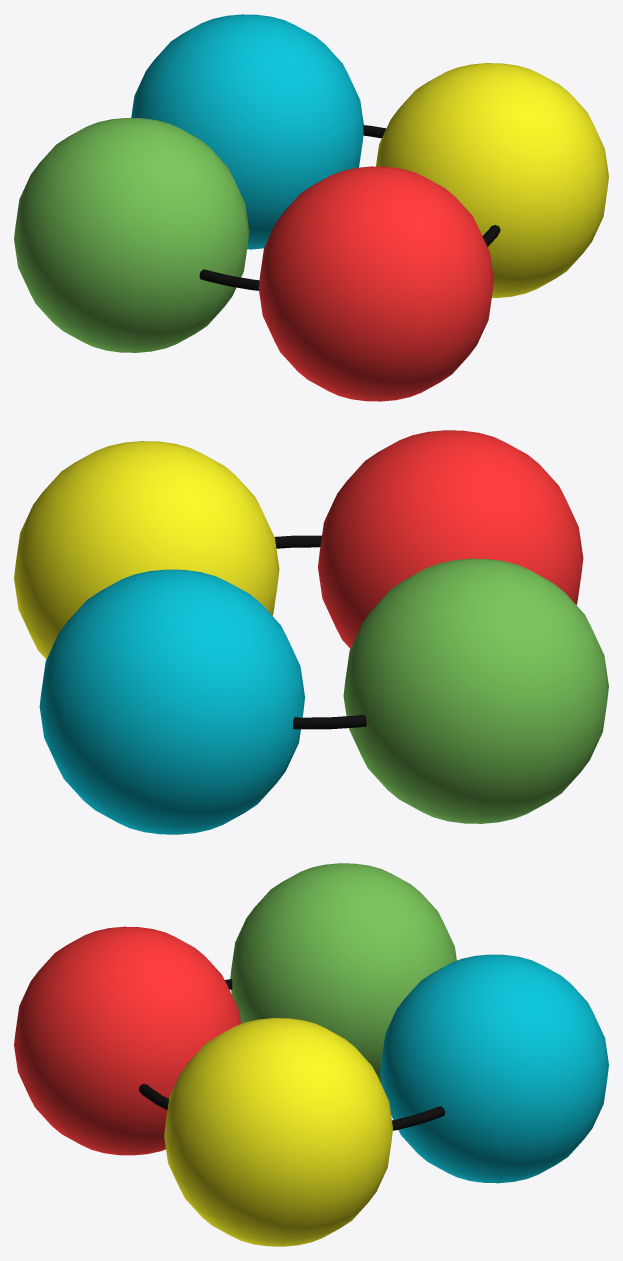
Rendered from éléments.fbx.
The picture shows the model from 3 angles, top to bottom: view 1: azimuth 30°, elevation 25°; view 2: azimuth 150°, elevation 25°; view 3: azimuth 270°, elevation 25°; orthographic projection. The views are drawn at different scales.
Visible parts, largest first — view 1: elements; view 2: elements; view 3: elements.
Boxes of the visible parts, box(x1,y1,x2,y2) form: elements: box(14, 14, 608, 401); elements: box(14, 430, 608, 834); elements: box(14, 863, 608, 1246).
Bounding box in the file's own units: 109 × 42 × 109.
